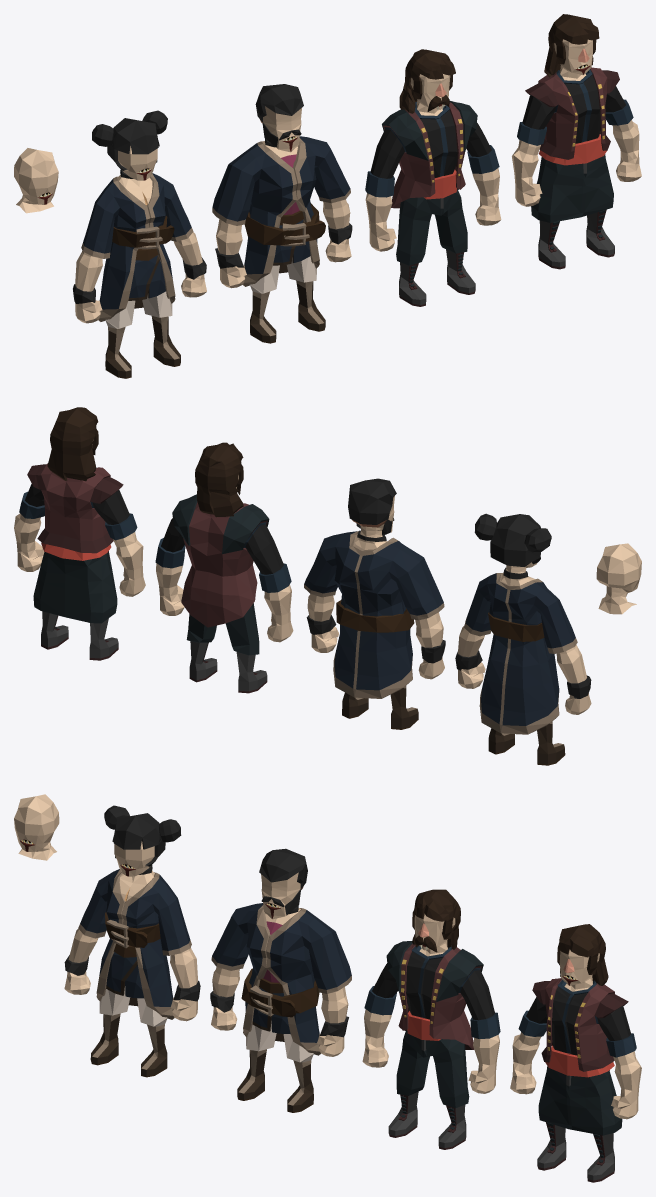
Rendered from Vampires_01.fbx.
3 views of the same model, one above another, from view 1: azimuth 30°, elevation 25°; view 2: azimuth 150°, elevation 25°; view 3: azimuth 330°, elevation 25° (orthographic).
Parts seen in each view (by area): view 1: 00_VAMPIREbase1_01exp:Layer3, 00_VAMPIREbase1_01exp:Layer4, 00_VAMPIREbase1_01exp:Layer2, 00_VAMPIREbase1_01exp:Layer5, 00_VAMPIREbase1_01exp:Layer1; view 2: 00_VAMPIREbase1_01exp:Layer3, 00_VAMPIREbase1_01exp:Layer2, 00_VAMPIREbase1_01exp:Layer5, 00_VAMPIREbase1_01exp:Layer4, 00_VAMPIREbase1_01exp:Layer1; view 3: 00_VAMPIREbase1_01exp:Layer3, 00_VAMPIREbase1_01exp:Layer4, 00_VAMPIREbase1_01exp:Layer2, 00_VAMPIREbase1_01exp:Layer5, 00_VAMPIREbase1_01exp:Layer1.
Boxes of the visible parts, box(x1,y1,x2,y2) form: 00_VAMPIREbase1_01exp:Layer3: box(212, 84, 352, 343); 00_VAMPIREbase1_01exp:Layer4: box(365, 49, 501, 306); 00_VAMPIREbase1_01exp:Layer2: box(73, 110, 206, 378); 00_VAMPIREbase1_01exp:Layer5: box(512, 14, 641, 269); 00_VAMPIREbase1_01exp:Layer1: box(14, 148, 58, 213); 00_VAMPIREbase1_01exp:Layer3: box(304, 478, 445, 729); 00_VAMPIREbase1_01exp:Layer2: box(455, 513, 591, 765); 00_VAMPIREbase1_01exp:Layer5: box(14, 407, 145, 660); 00_VAMPIREbase1_01exp:Layer4: box(155, 442, 293, 693); 00_VAMPIREbase1_01exp:Layer1: box(596, 543, 641, 614); 00_VAMPIREbase1_01exp:Layer3: box(210, 848, 351, 1112); 00_VAMPIREbase1_01exp:Layer4: box(362, 889, 500, 1149); 00_VAMPIREbase1_01exp:Layer2: box(64, 805, 200, 1077); 00_VAMPIREbase1_01exp:Layer5: box(510, 924, 641, 1182); 00_VAMPIREbase1_01exp:Layer1: box(14, 794, 59, 860).
Size of the model in its own units: 2429 by 903 by 266.
